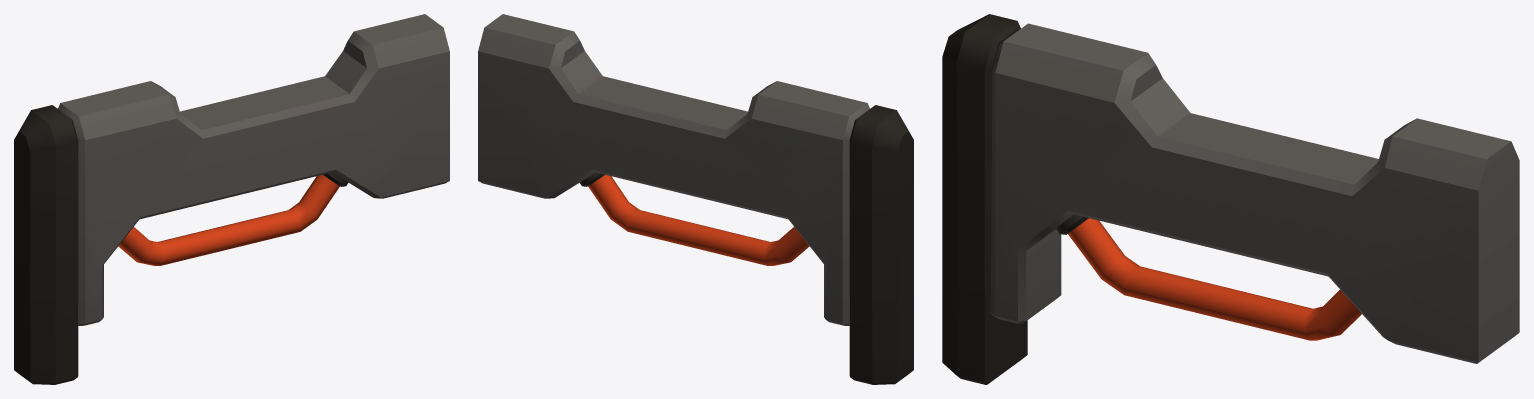
The model's file is AR5_ButtstockLight.fbx.
3 views of the same model, side by side, from view 1: azimuth 30°, elevation 25°; view 2: azimuth 150°, elevation 25°; view 3: azimuth 330°, elevation 25° (orthographic). The views are drawn at different scales.
Parts seen in each view (by area): view 1: AR5_ButtstockLight; view 2: AR5_ButtstockLight; view 3: AR5_ButtstockLight.
Part boxes in pixels (x1=…): AR5_ButtstockLight: x1=14, y1=14, x2=449, y2=384; AR5_ButtstockLight: x1=478, y1=14, x2=913, y2=384; AR5_ButtstockLight: x1=942, y1=14, x2=1519, y2=384.
Size of the model in its own units: 22.48 by 13.47 by 3.06.
